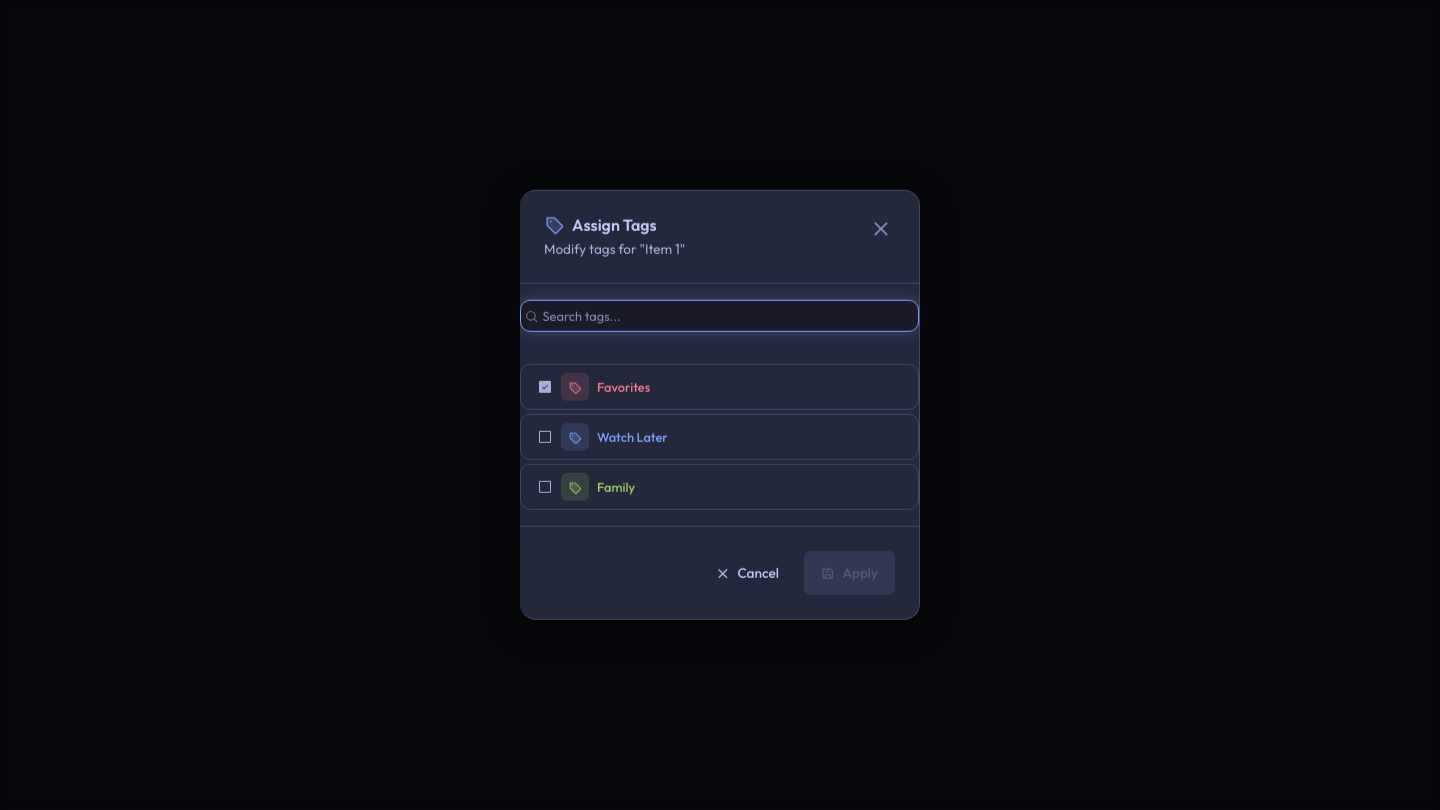
BulkTagAssignment › changes summary › shows summary with both adds and removes
Click the button "Watch Later": (632, 437) x1=520 y1=414 x2=919 y2=460
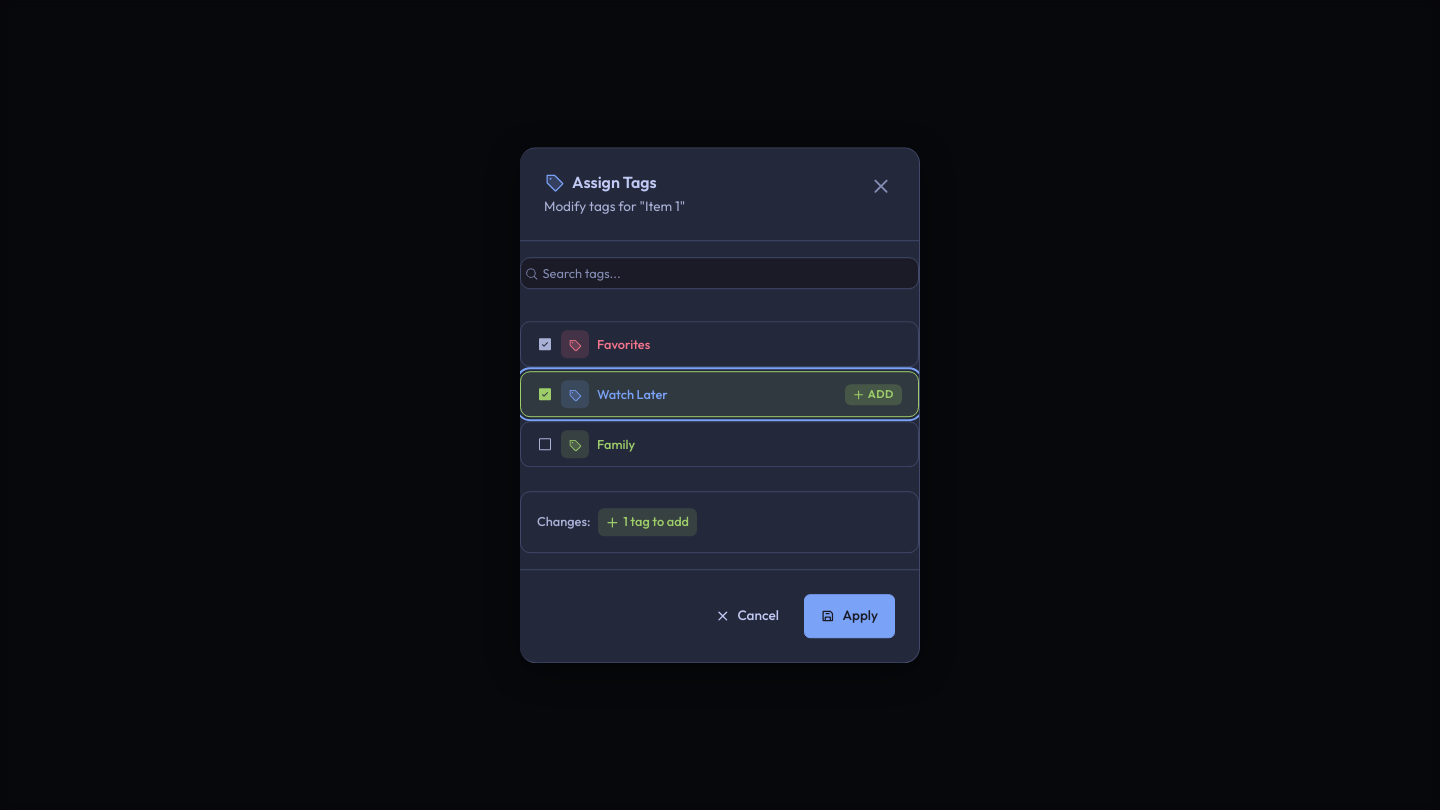
Click the button "Favorites": (624, 344) x1=520 y1=322 x2=919 y2=368
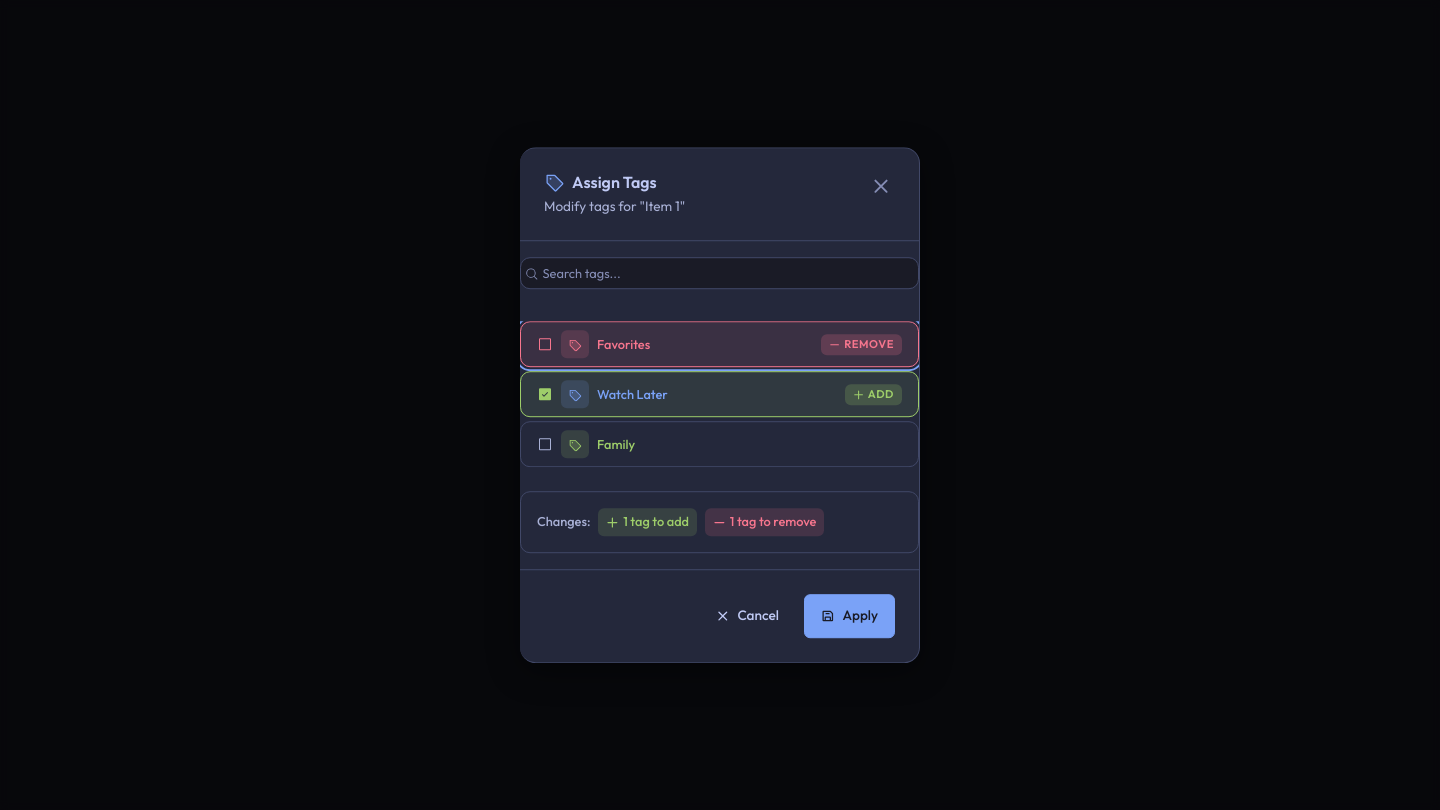
Expected: the text "Changes:" is shown, x1=537 y1=513 x2=590 y2=532
Expected: the text "1 tag to add" is shown, x1=598 y1=509 x2=697 y2=536
Expected: the text "1 tag to remove" is shown, x1=705 y1=509 x2=824 y2=536
